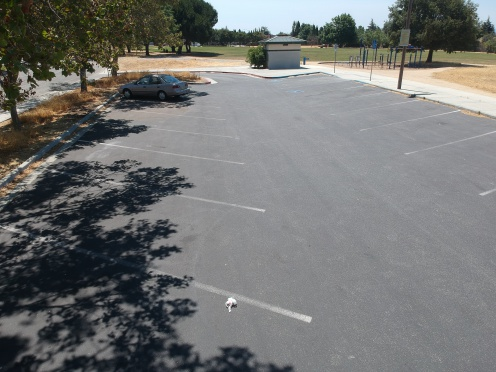plastic bag: (217, 293, 242, 316)
